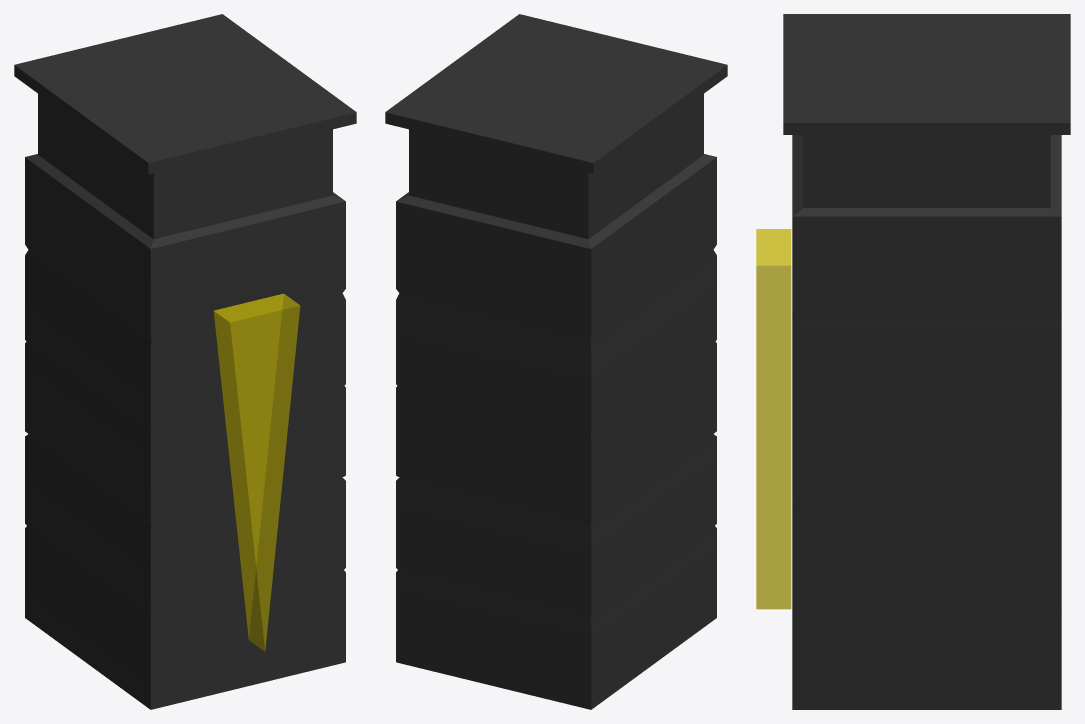
Rendered from edificio 4.fbx.
3 views of the same model, side by side, from view 1: azimuth 30°, elevation 25°; view 2: azimuth 150°, elevation 25°; view 3: azimuth 270°, elevation 25° (orthographic). The views are drawn at different scales.
Visible parts, largest first — view 1: polySurface4467, polySurface4468; view 2: polySurface4467; view 3: polySurface4467, polySurface4468.
Boxes of the visible parts, <box> form: polySurface4467: <box>14,14,356,709</box>; polySurface4468: <box>213,293,300,651</box>; polySurface4467: <box>385,14,727,709</box>; polySurface4467: <box>783,14,1070,709</box>; polySurface4468: <box>756,229,791,609</box>.
Bounding box in the file's own units: 634 × 1604 × 774.
